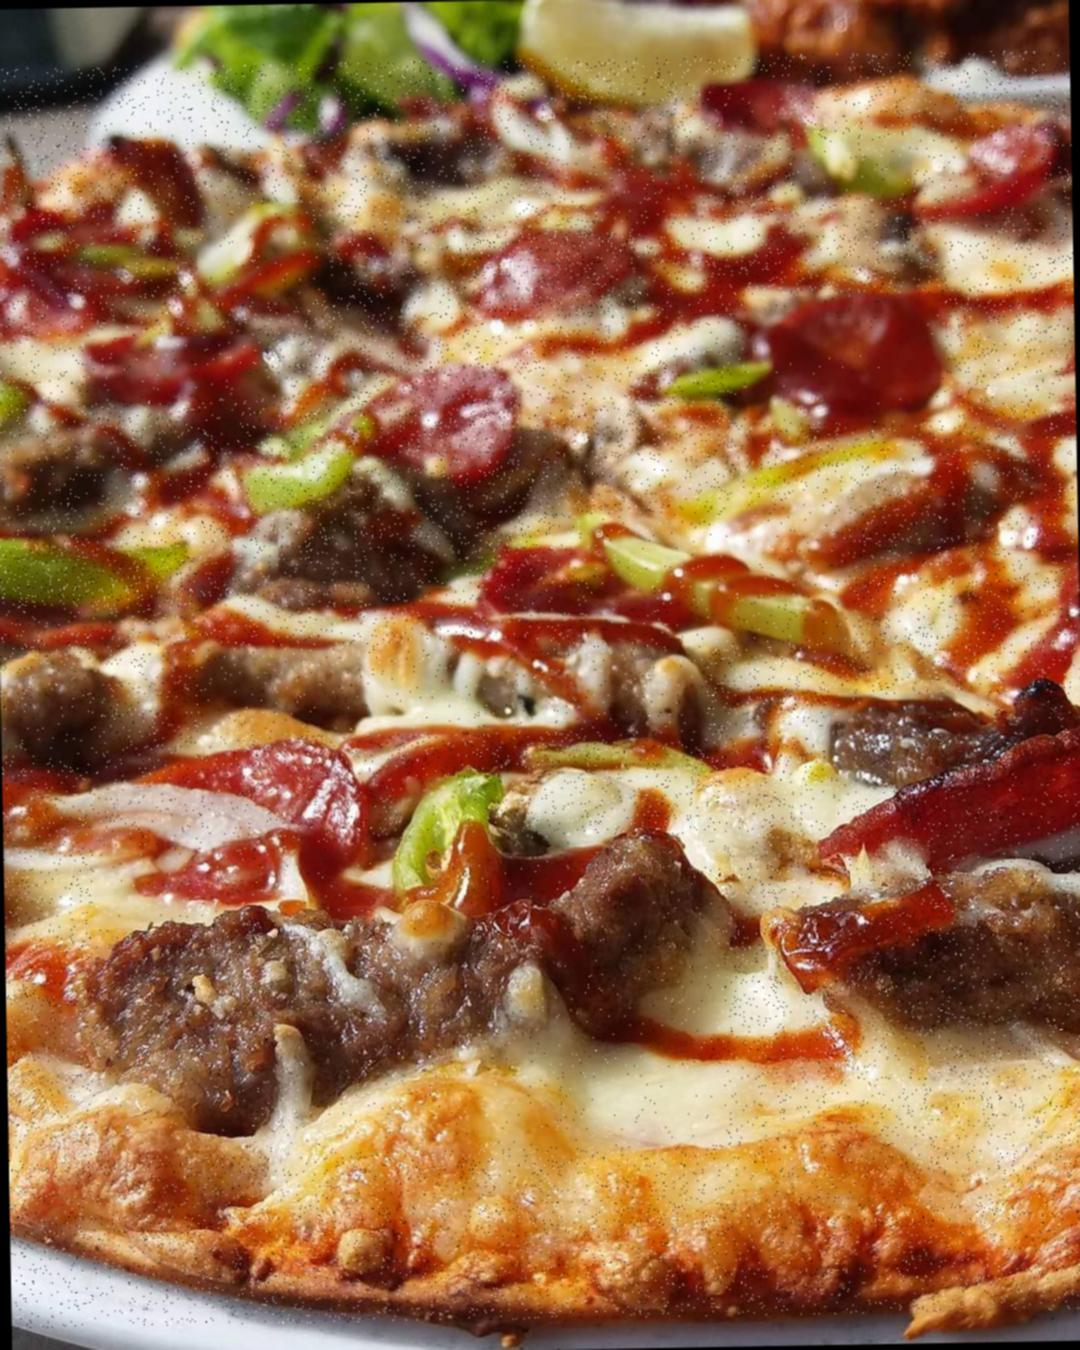Ham: (94, 835, 728, 1156), (791, 873, 1080, 1048), (198, 638, 702, 737), (277, 451, 553, 593), (827, 692, 1049, 778), (1, 435, 141, 517), (6, 658, 100, 754)
Pepperoni: (91, 748, 367, 922), (816, 721, 1080, 871), (745, 294, 947, 424), (325, 358, 521, 479), (443, 205, 635, 317), (911, 111, 1065, 222), (85, 335, 268, 400), (584, 143, 705, 233), (486, 525, 605, 612), (701, 73, 810, 134)
Peppers: (587, 509, 854, 647), (401, 776, 497, 926), (0, 540, 190, 608), (249, 406, 375, 503), (196, 204, 315, 303), (793, 140, 917, 195), (676, 355, 760, 401), (78, 242, 163, 276), (0, 379, 35, 436)
Pizza: (0, 48, 1080, 1328)
